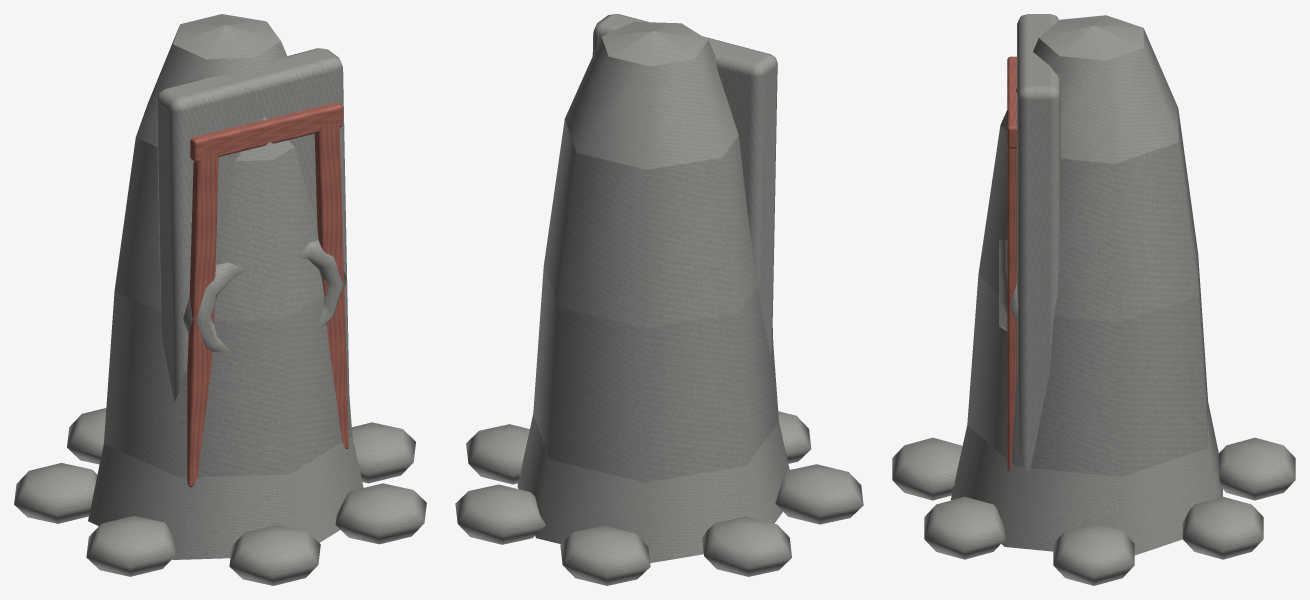
The model's file is viking-age-longhouse-and-longship-carved-rune-stone-d76bdaa8__30181.glb.
The picture shows the model from 3 angles, left to right: view 1: azimuth 30°, elevation 25°; view 2: azimuth 150°, elevation 25°; view 3: azimuth 270°, elevation 25°; orthographic projection.
Parts seen in each view (by area): view 1: carved-rune-stone; view 2: carved-rune-stone; view 3: carved-rune-stone.
Boxes of the visible parts, x1,y1,x2,y2 form: carved-rune-stone: (14,14,426,585); carved-rune-stone: (455,14,863,585); carved-rune-stone: (892,14,1295,585).
Size of the model in its own units: 1.52 by 1.93 by 1.46.
2 materials, 2 textured.
